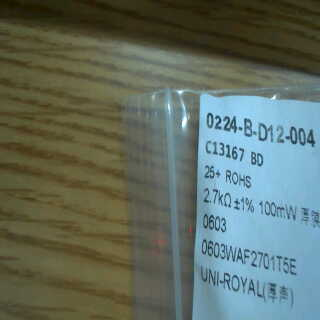2.7kR: (201, 187, 234, 210)
